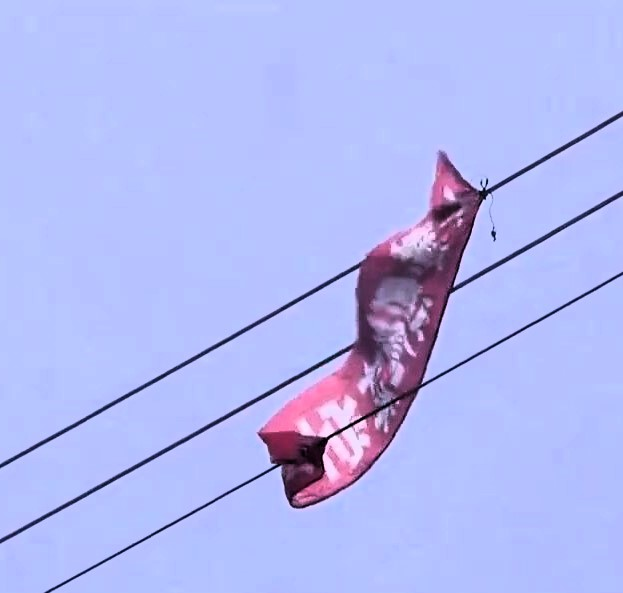wire foreign body: (244, 142, 504, 511)
